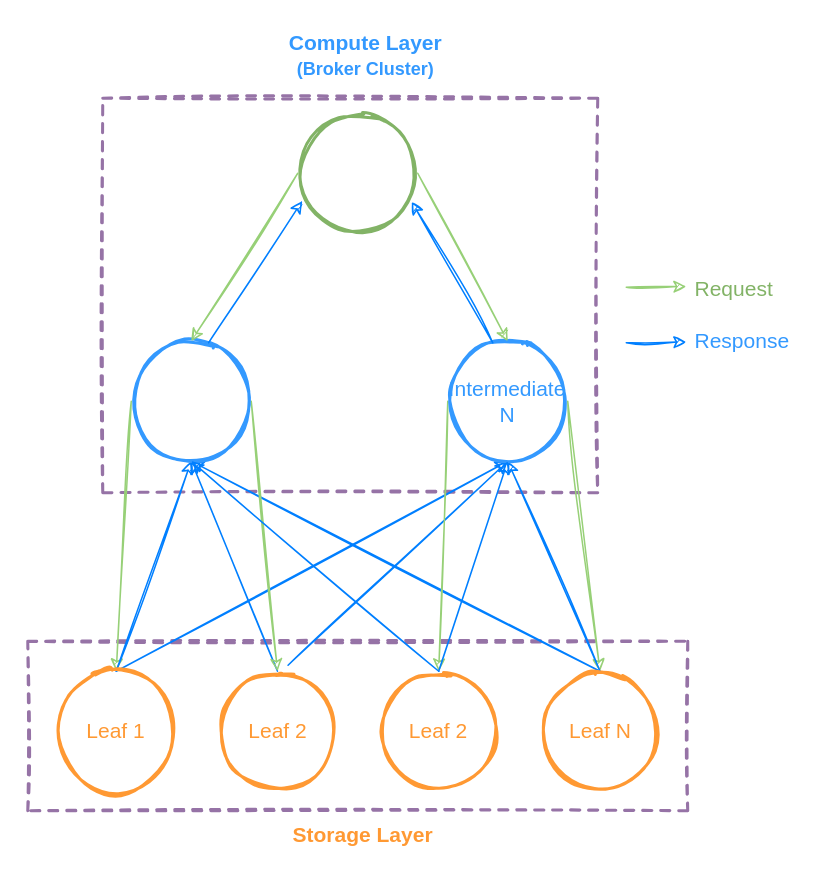
Some shapes in this 837 by 873 pixel diagram are drawn without their labels. Each missing label, with the centre of its shape:
Intermediate 1: point (190, 400)
Root: point (357, 172)
